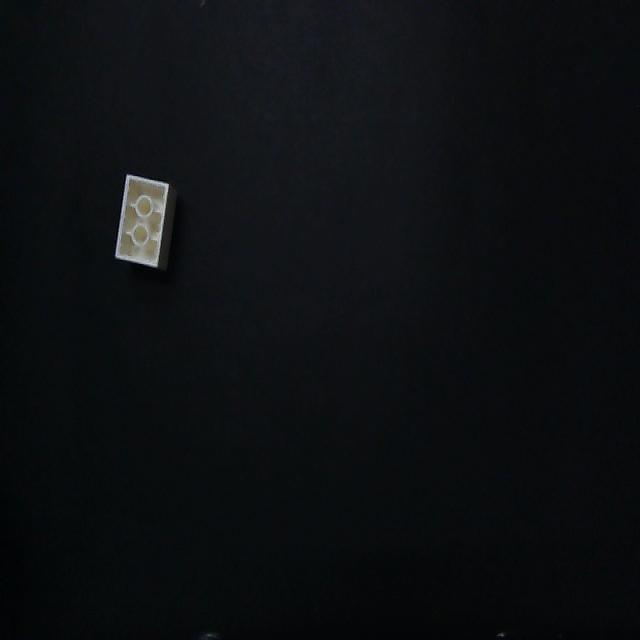lego_brick: (114, 175, 175, 269)
